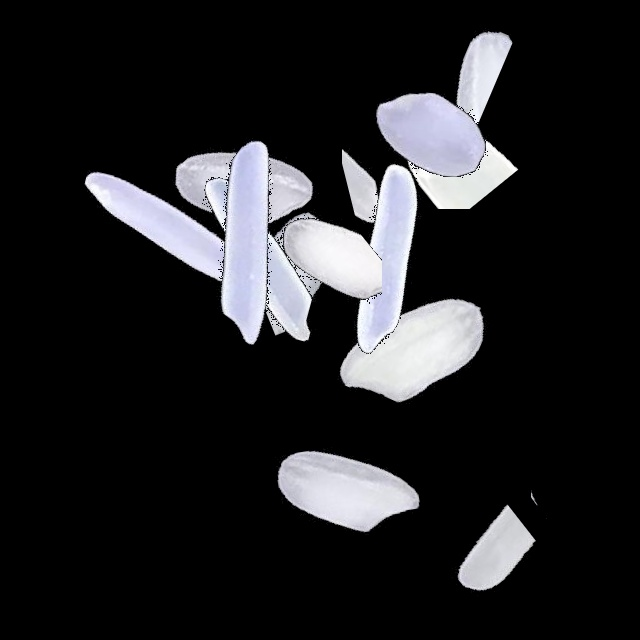Broken: (231, 162, 382, 412), (251, 135, 401, 385), (343, 498, 593, 637), (307, 15, 557, 137), (323, 90, 573, 209), (342, 31, 452, 281), (531, 357, 623, 607)
Full: (119, 59, 369, 309), (288, 222, 538, 472), (134, 132, 384, 382), (42, 102, 292, 352), (259, 136, 509, 386), (128, 115, 378, 365), (224, 365, 474, 615), (304, 10, 554, 260)
